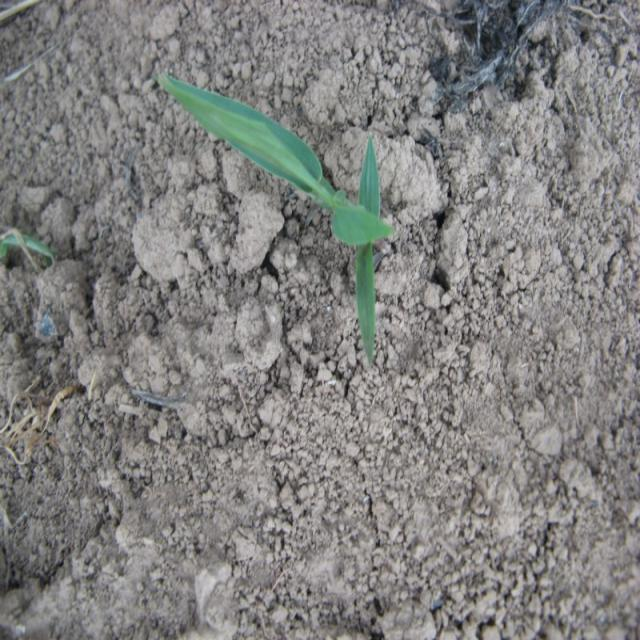bg: (161, 68, 398, 367)
